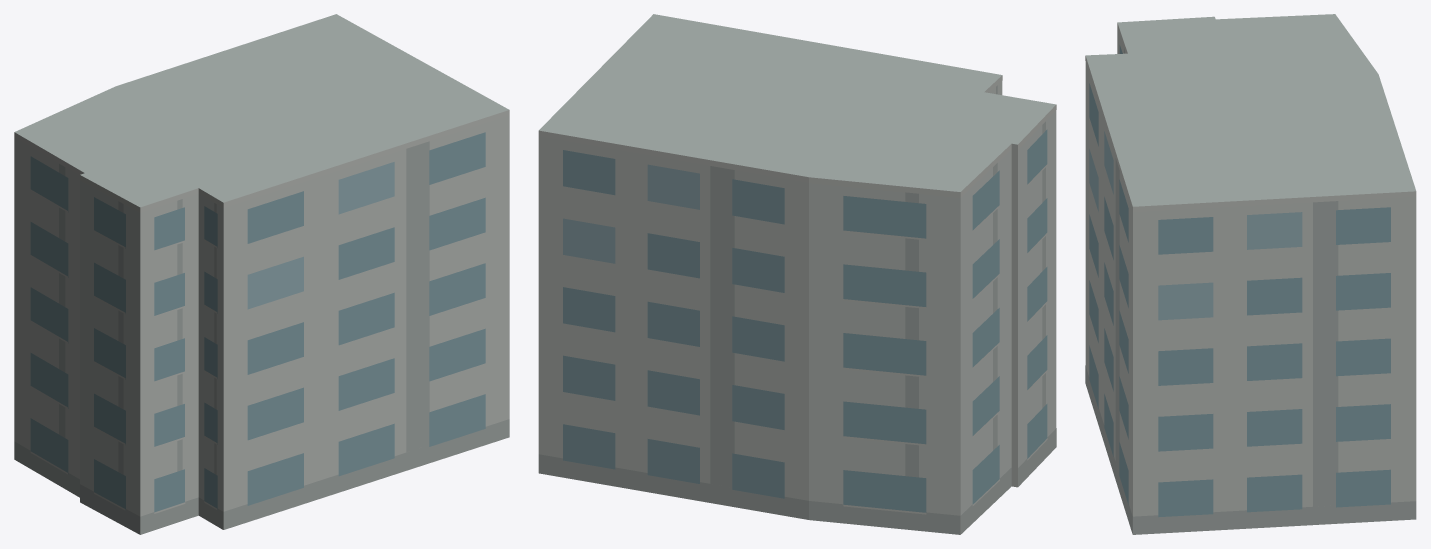
The model's file is survey-upis-32575204.glb.
The picture shows the model from 3 angles, left to right: view 1: azimuth 30°, elevation 25°; view 2: azimuth 150°, elevation 25°; view 3: azimuth 270°, elevation 25°; orthographic projection. The views are drawn at different scales.
Visible parts, largest first — view 1: survey-upis-32575204.tmp; view 2: survey-upis-32575204.tmp; view 3: survey-upis-32575204.tmp.
Boxes of the visible parts, <box> form: survey-upis-32575204.tmp: <box>14,14,509,534</box>; survey-upis-32575204.tmp: <box>538,14,1056,534</box>; survey-upis-32575204.tmp: <box>1085,14,1416,534</box>.
Size of the model in its own units: 18.53 by 14.7 by 13.45.
